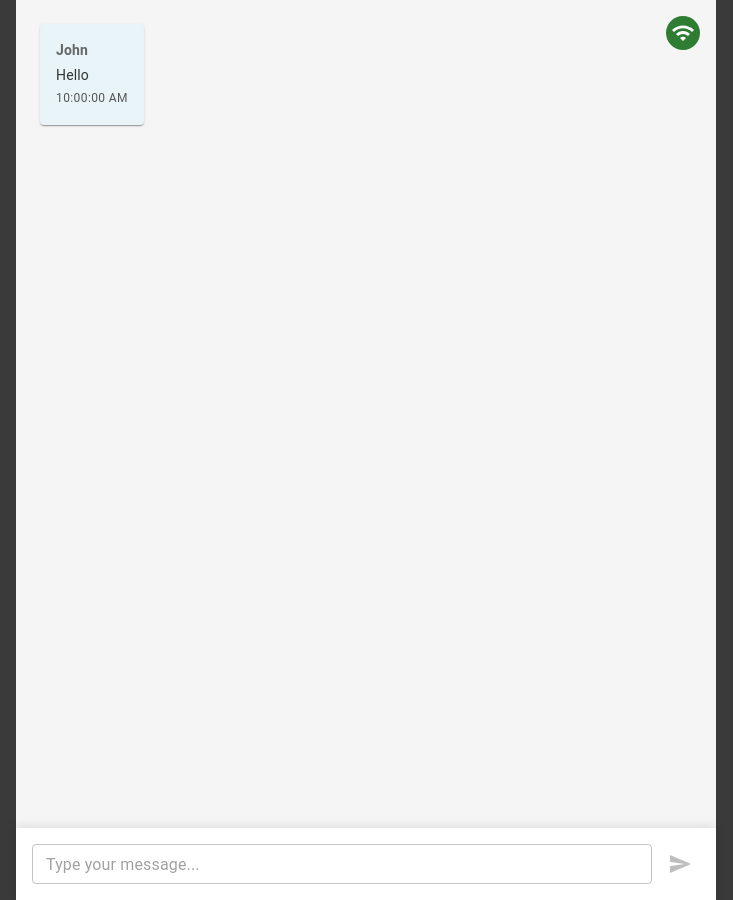
it: ChatPage › calls sendMessage when send button is clicked
Step 1. Type "Test message" into the text box with placeholder "Type your message..." → (342, 864), box [46,852,638,876]
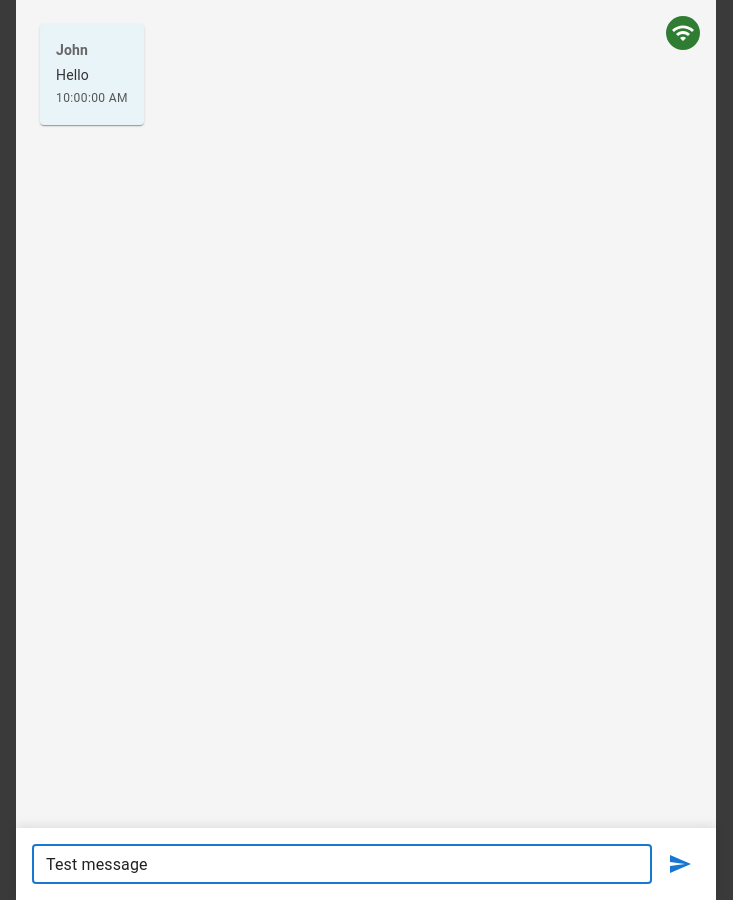
Step 2. Click the button named "send message" → (680, 864), box [660,844,700,884]
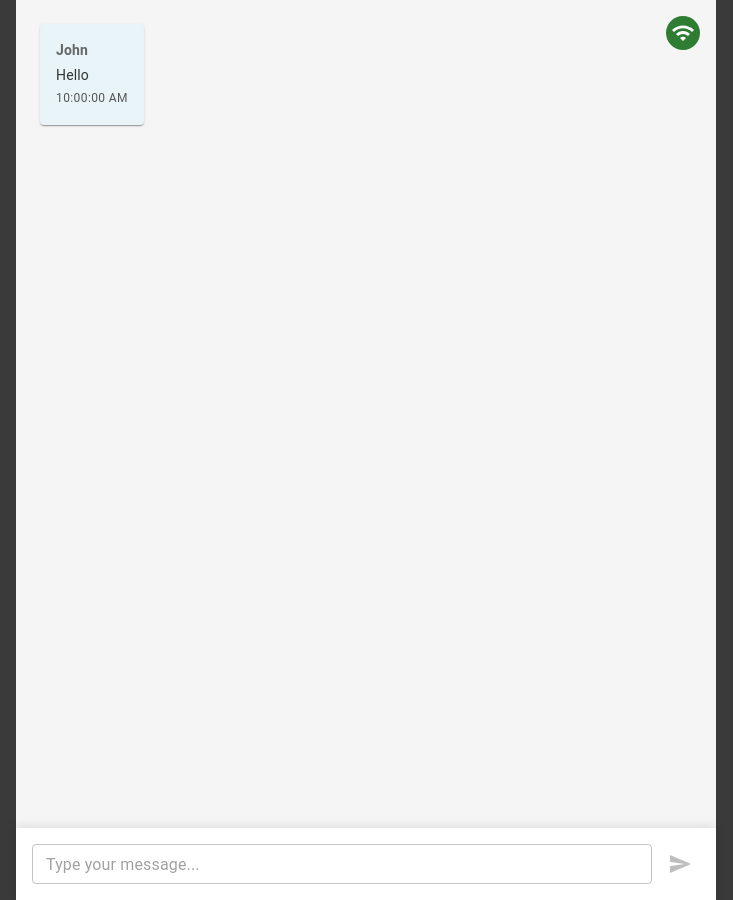
Check: the text box with placeholder "Type your message..." is empty, box [46,852,638,876]
